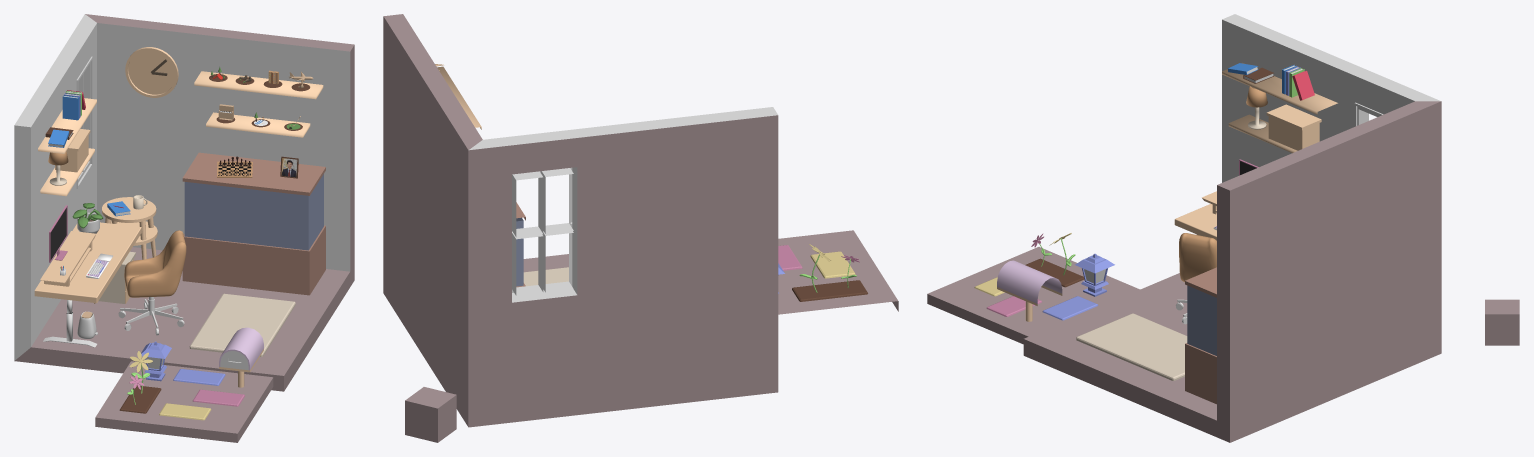
Rendered from Finale.glb.
The picture shows the model from 3 angles, left to right: view 1: azimuth 30°, elevation 25°; view 2: azimuth 150°, elevation 25°; view 3: azimuth 270°, elevation 25°; orthographic projection. The views are drawn at different scales.
Visible parts, largest first — view 1: Body, Aquarium, Tank, Shelves, Mini floor, Floor Items, Desks, Table Stuff, Chair, Clock, Mailbox, Lamp (+6 smaller); view 2: Body, Mini floor, Cube.370, Dirt, FloorThird, Floor Items; view 3: Body, Mini floor, Shelves, Floor Items, Aquarium, Mailbox, Tank, Cube.370, Chair, Lamp, Desks, FloorFirst (+1 smaller).
Part boxes in pixels (x1,y1,x2,y2): Body: (14,14,354,391); Aquarium: (182,152,325,295); Tank: (184,174,323,250); Shelves: (38,67,323,196); Mini floor: (95,361,273,442); Floor Items: (77,251,295,356); Desks: (34,197,157,347); Table Stuff: (40,195,147,286); Chair: (124,230,186,297); Clock: (125,47,178,97); Mailbox: (219,327,263,387); Lamp: (141,341,171,381); Body: (383,14,778,427); Mini floor: (778,230,898,314); Cube.370: (405,387,456,442); Dirt: (792,280,867,301); FloorThird: (810,251,855,278); Floor Items: (523,267,568,286); Body: (1023,14,1441,442); Mini floor: (927,247,1139,344); Shelves: (1222,62,1337,153); Floor Items: (1076,299,1187,380); Aquarium: (1185,267,1216,404); Mailbox: (997,260,1062,321); Tank: (1187,285,1216,355); Cube.370: (1485,299,1519,345); Chair: (1179,233,1216,282); Lamp: (1075,253,1114,296); Desks: (1174,204,1216,240); FloorFirst: (1042,296,1098,320).
Size of the model in its own units: 24.96 by 16.13 by 34.31.
Materials: 38 (1 with a texture image).
